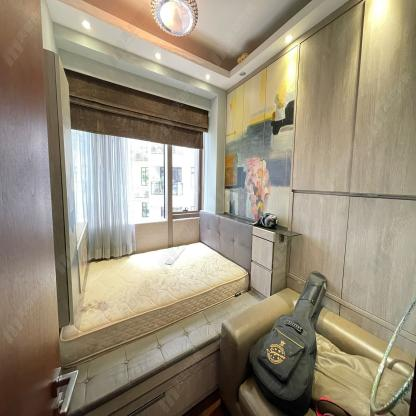Bed: (59, 241, 251, 368)
Closet: (284, 0, 416, 362)
